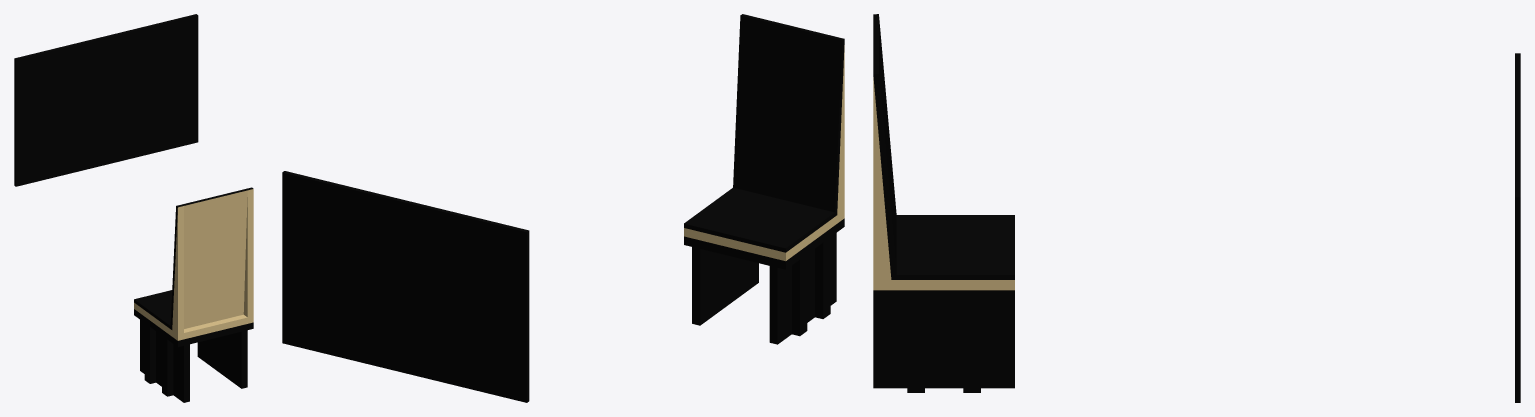
The model's file is step.obj.
3 views of the same model, side by side, from view 1: azimuth 30°, elevation 25°; view 2: azimuth 150°, elevation 25°; view 3: azimuth 270°, elevation 25° (orthographic). The views are drawn at different scales.
Parts seen in each view (by area): view 1: object_1, object_4, object_2, object_3; view 2: object_1, object_3, object_2, object_4; view 3: object_2, object_3, object_4, object_1.
Boxes of the visible parts, box(x1,y1,x2,y2) form: object_1: box(14, 14, 198, 186); object_4: box(134, 189, 253, 340); object_2: box(134, 309, 253, 402); object_3: box(134, 187, 253, 329); object_1: box(282, 171, 529, 402); object_3: box(684, 14, 844, 252); object_2: box(684, 218, 844, 344); object_4: box(684, 45, 844, 261); object_2: box(873, 290, 1014, 392); object_3: box(873, 14, 1014, 279); object_4: box(873, 77, 1014, 290); object_1: box(1515, 53, 1520, 402).
Bounding box in the file's own units: 3.6 × 3.1 × 5.71.
